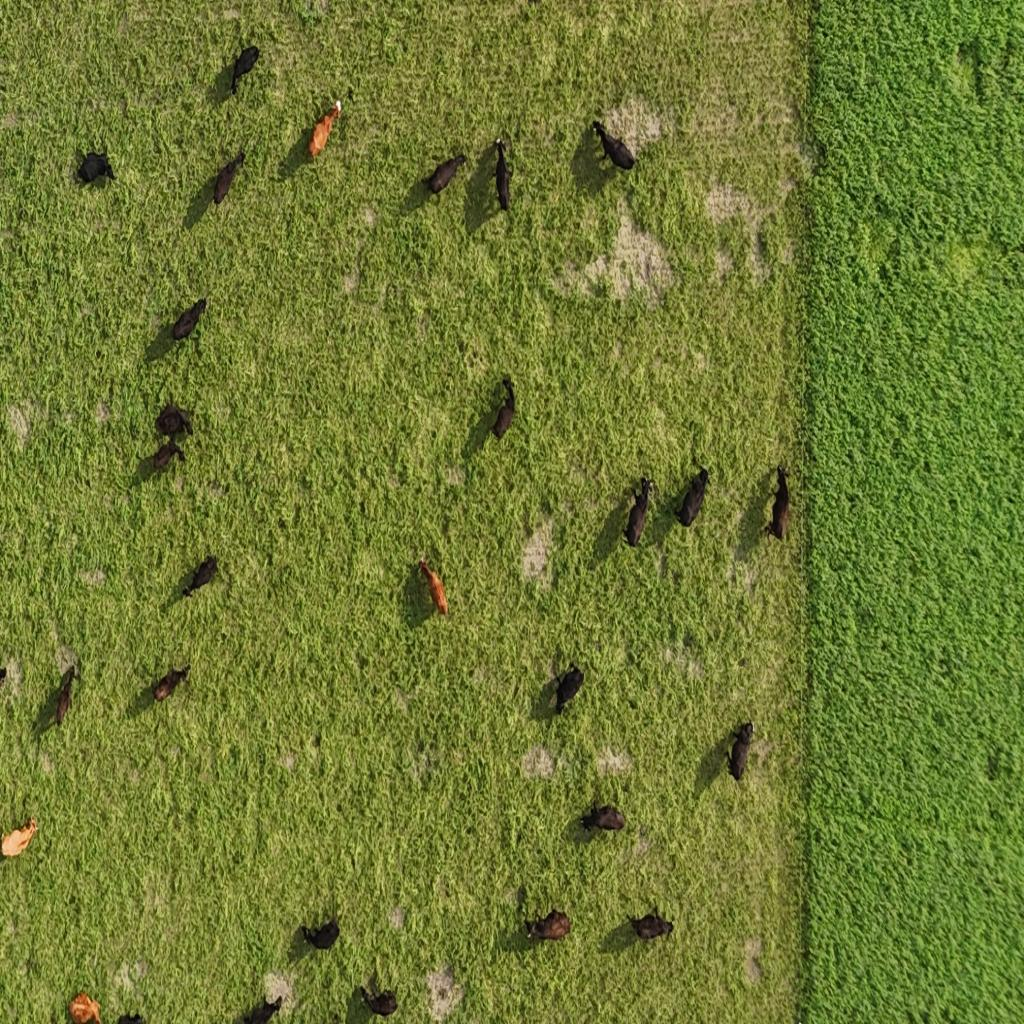cow: (590, 115, 638, 183), (163, 296, 209, 346), (310, 96, 344, 162), (521, 909, 573, 951), (674, 468, 709, 530), (625, 476, 655, 547), (766, 462, 791, 544), (423, 154, 467, 200), (551, 659, 585, 718), (212, 151, 246, 207), (418, 558, 450, 617), (51, 663, 79, 730), (74, 148, 116, 192), (490, 374, 516, 445), (152, 661, 192, 705), (0, 816, 40, 860), (228, 46, 260, 98), (728, 719, 754, 783), (629, 907, 673, 942), (155, 401, 194, 440), (182, 555, 216, 599), (580, 802, 624, 834), (494, 138, 513, 212), (360, 984, 398, 1018), (302, 917, 340, 951), (152, 440, 187, 474), (246, 994, 282, 1024), (116, 1010, 146, 1024), (0, 665, 9, 690)
